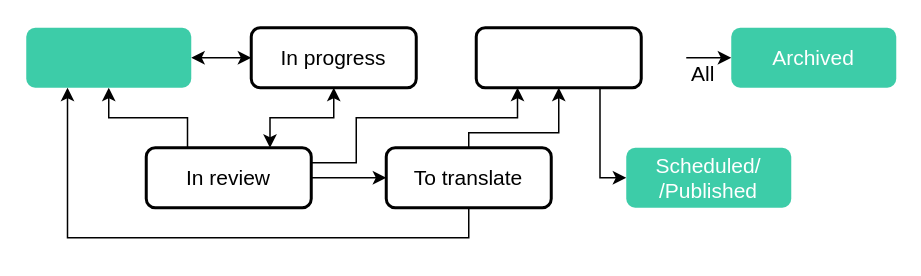
Image size: 921x276. Some labels were removed from this diagram. Each missing label, with the box of its shape:
Ready for publishing: (474, 26, 642, 88)
To do: (26, 27, 190, 87)
